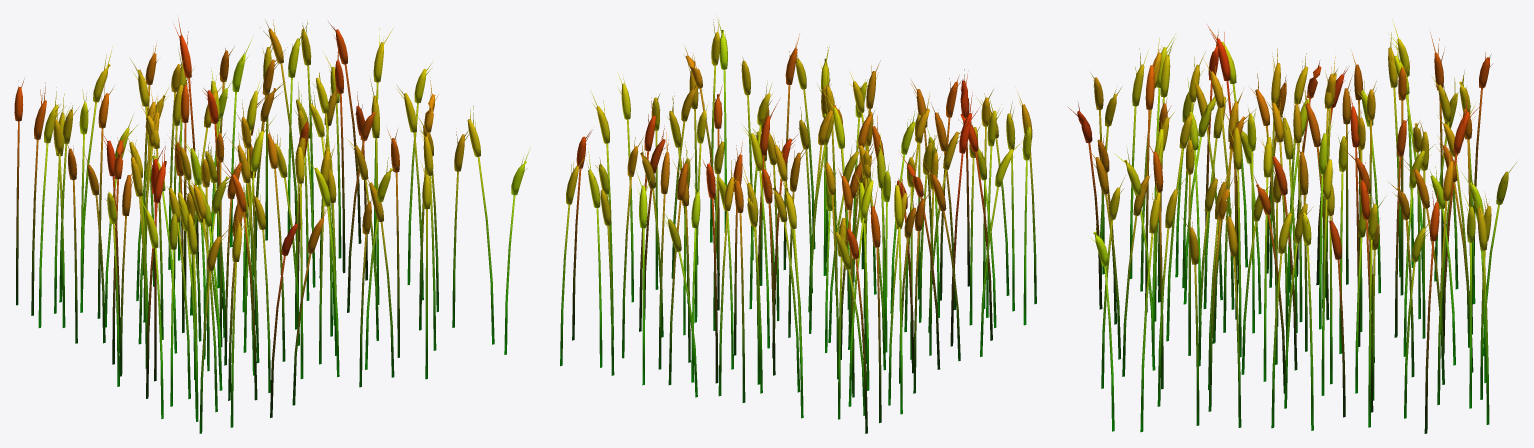
Rendered from HOB_WheatPatch_LOD0.fbx.
3 views of the same model, side by side, from view 1: azimuth 30°, elevation 25°; view 2: azimuth 150°, elevation 25°; view 3: azimuth 270°, elevation 25° (orthographic). The views are drawn at different scales.
Parts seen in each view (by area): view 1: HOB_WheatPatch_LOD0; view 2: HOB_WheatPatch_LOD0; view 3: HOB_WheatPatch_LOD0.
Part boxes in pixels (box(x1,y1,x2,y2)): HOB_WheatPatch_LOD0: box(14, 17, 530, 433); HOB_WheatPatch_LOD0: box(560, 18, 1036, 433); HOB_WheatPatch_LOD0: box(1068, 20, 1516, 433).
Bounding box in the file's own units: 224 × 147 × 228.
